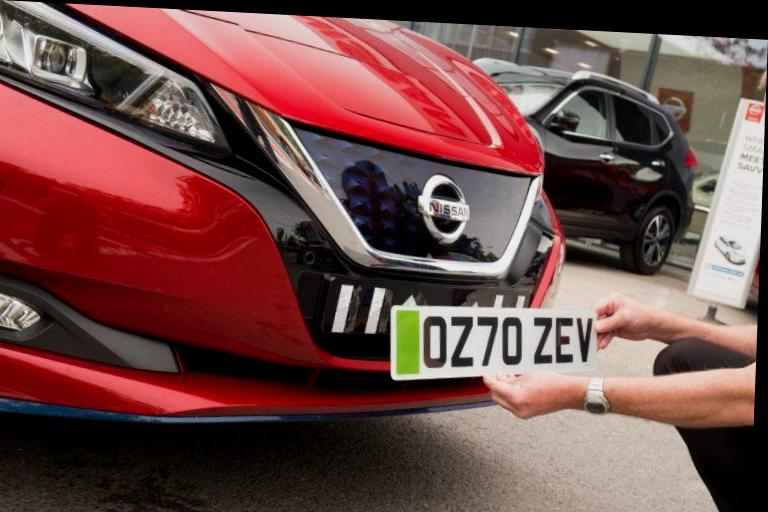License_Plate: (383, 296, 622, 392)
